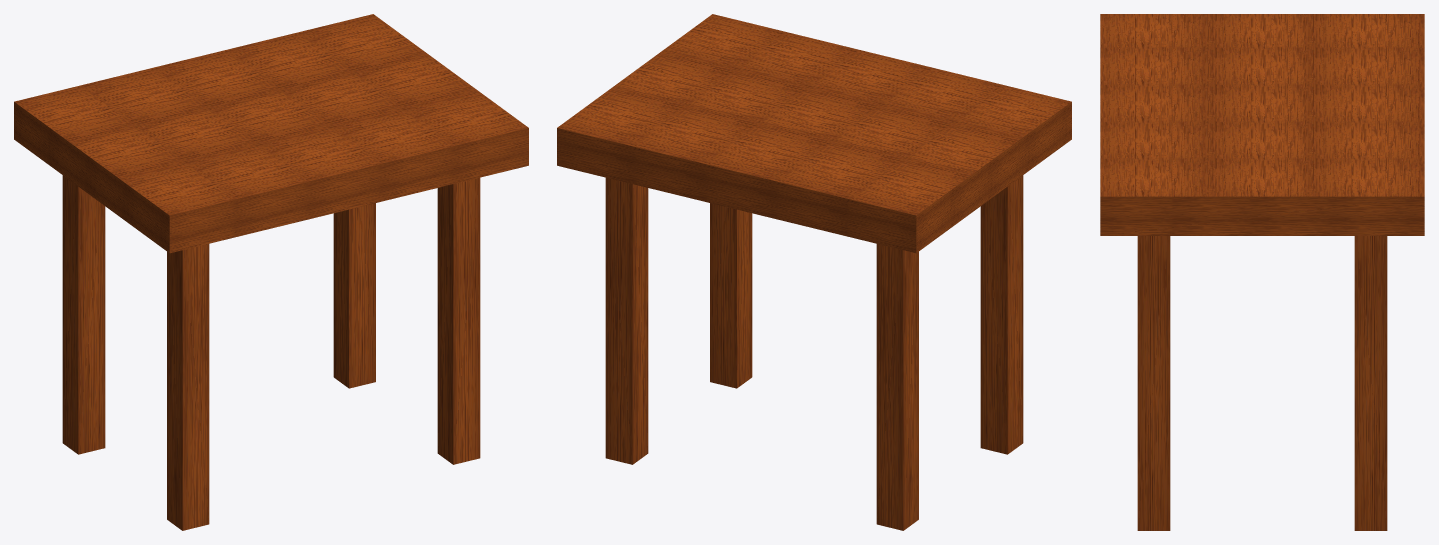
The model's file is table.fbx.
3 renders of one model, left to right at view 1: azimuth 30°, elevation 25°; view 2: azimuth 150°, elevation 25°; view 3: azimuth 270°, elevation 25°, orthographic. The views are drawn at different scales.
Parts seen in each view (by area): view 1: Table; view 2: Table; view 3: Table.
Part boxes in pixels (left/top/right/bottom): Table: left=14, top=14, right=528, bottom=530; Table: left=557, top=14, right=1071, bottom=530; Table: left=1100, top=14, right=1424, bottom=530.
Size of the model in its own units: 4 by 3.57 by 3.
